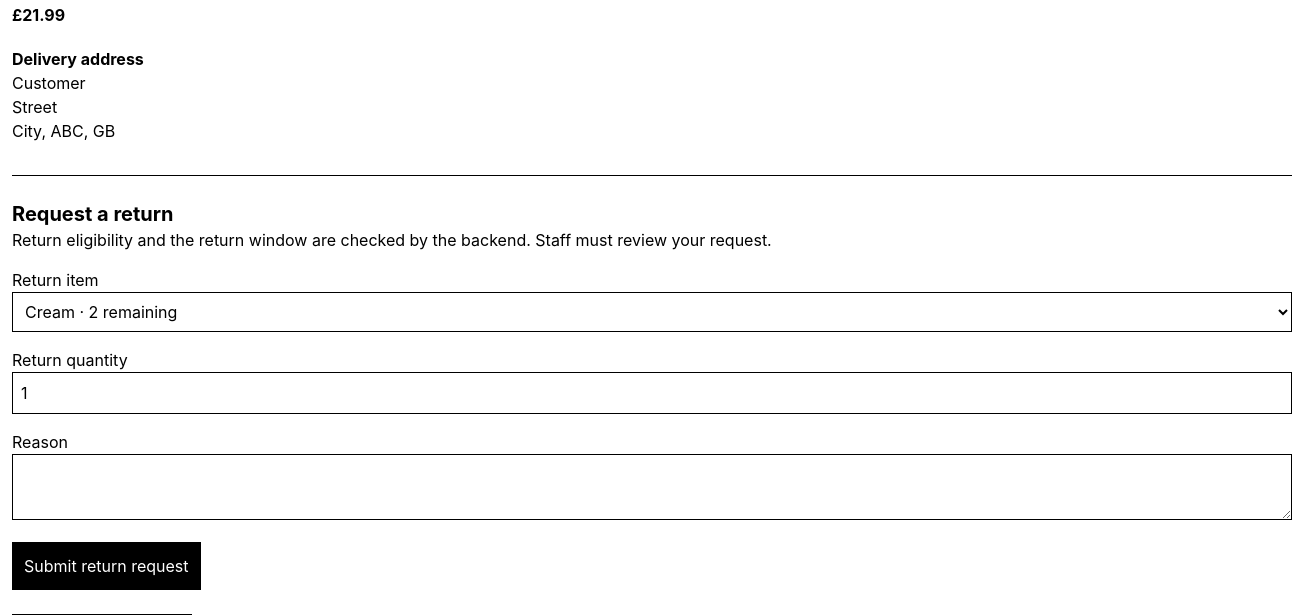
Test: verified order status › reloads server return state after a successful request
(page scrolled)
Type "Damaged" into the text box labelled "Reason" at (652, 487), box x1=12 y1=454 x2=1292 y2=520
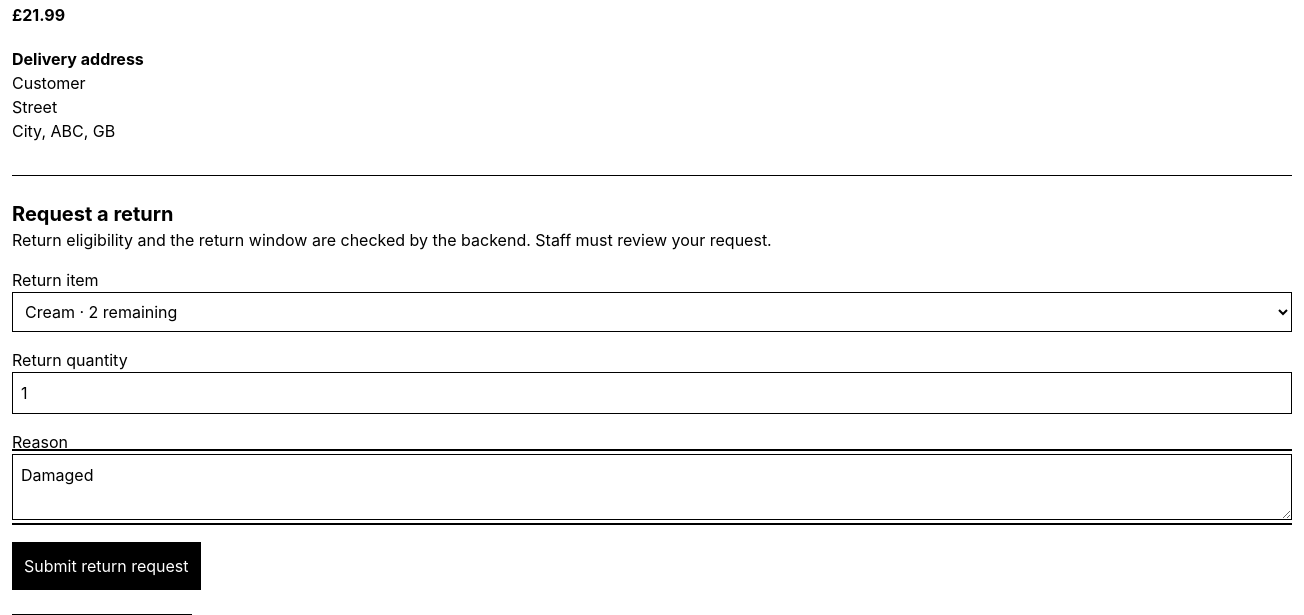
Click the button "Submit return request" at (106, 566), box x1=12 y1=542 x2=200 y2=590
(page scrolled)
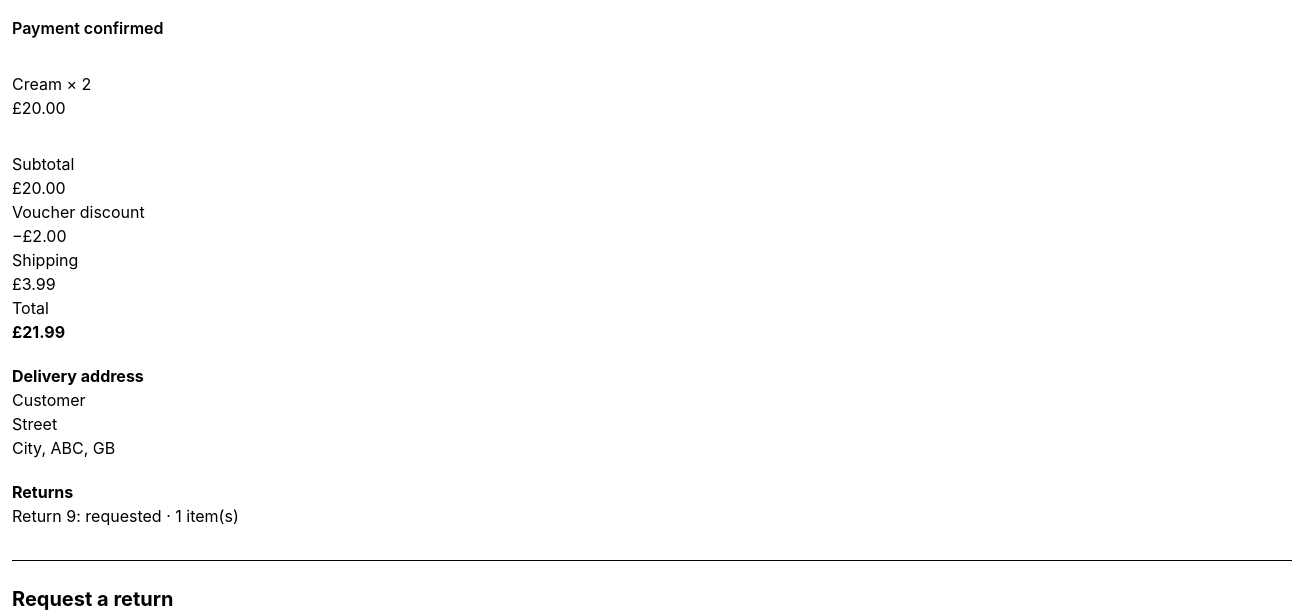
Result: the list item "Return 9: requested · 1 item(s)" is shown at x1=12 y1=506 x2=239 y2=526
